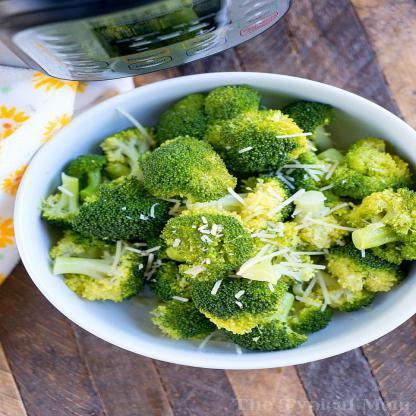broccoli: (38, 85, 416, 353)
